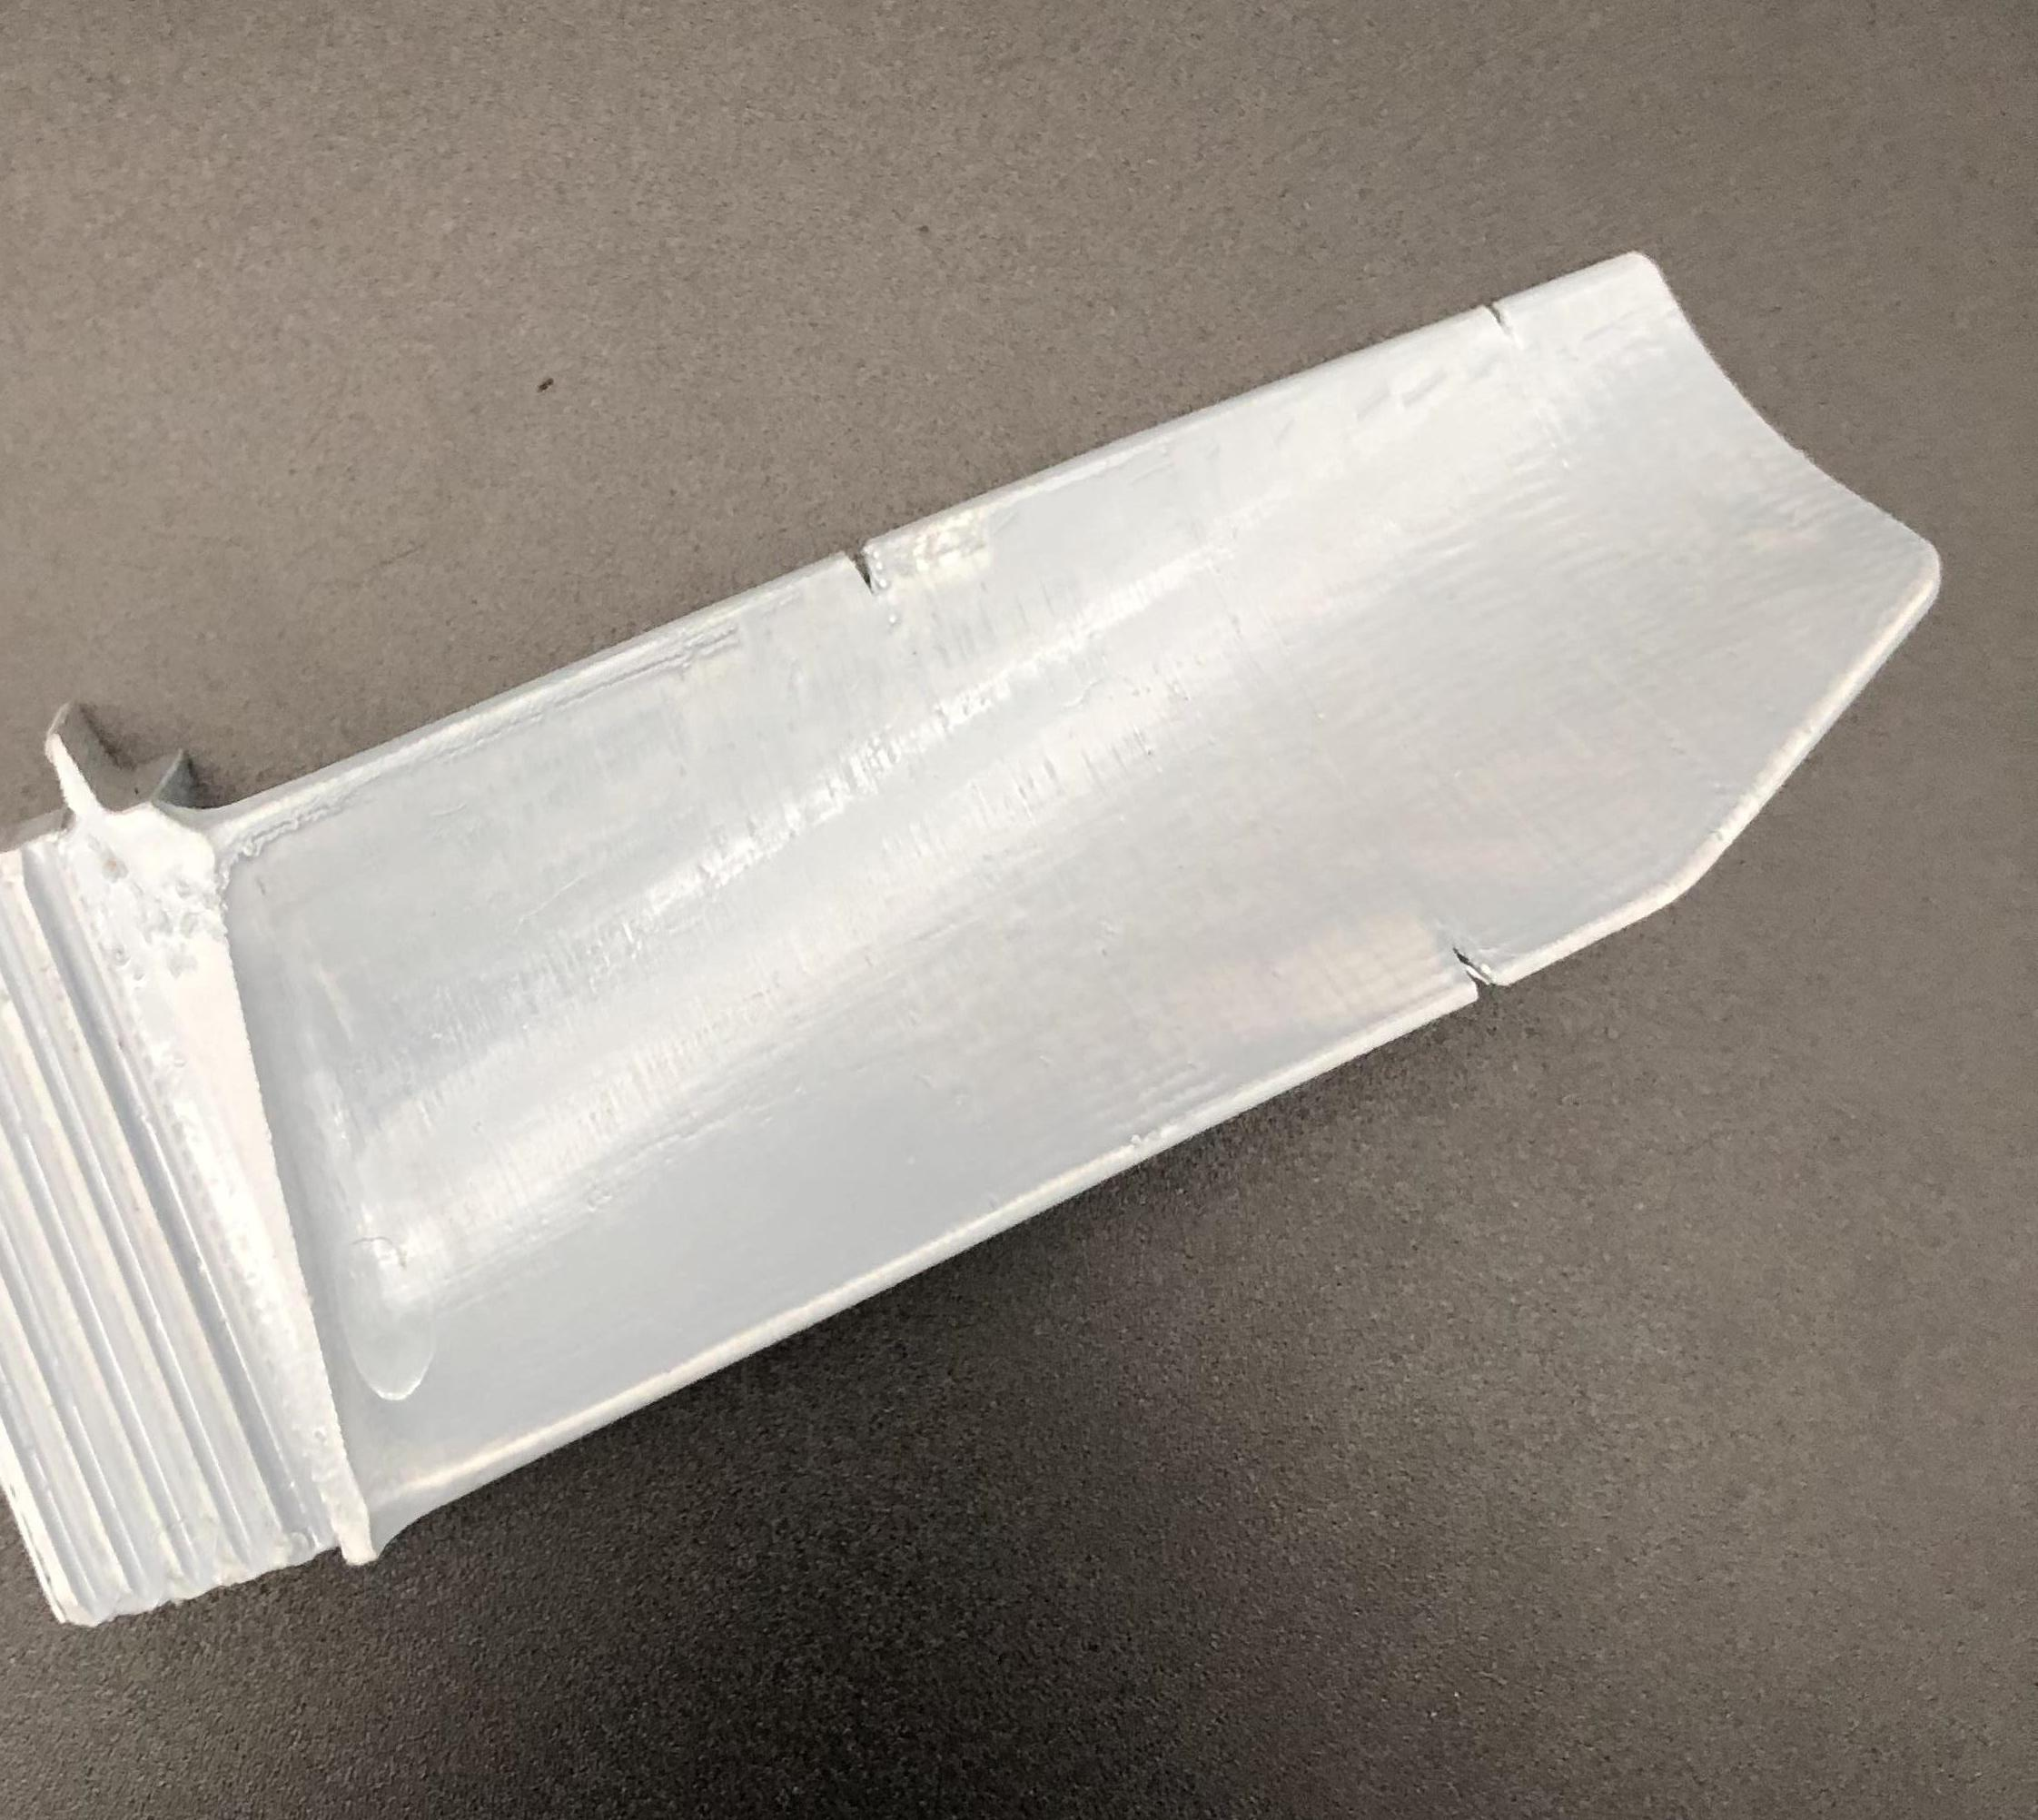groove: (1439, 940, 1516, 1007), (842, 546, 901, 592), (1476, 293, 1523, 339)
